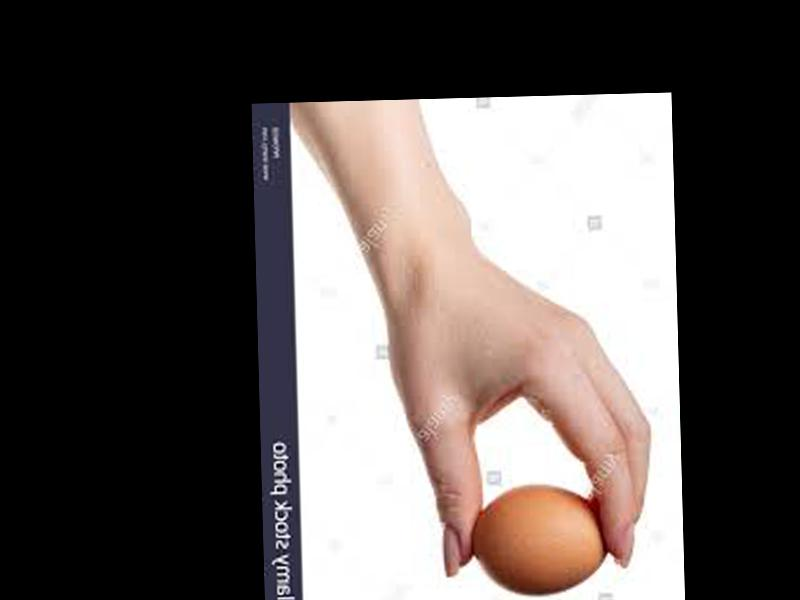Eggs: (471, 478, 608, 598)
